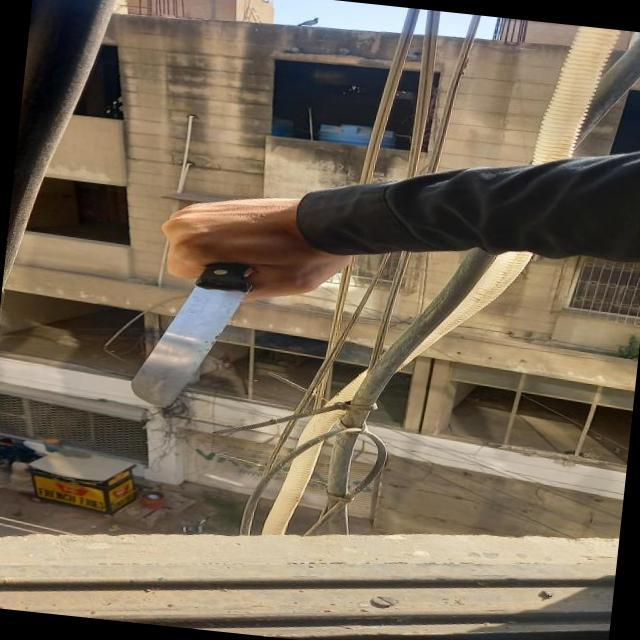Knife: (117, 212, 320, 432)
